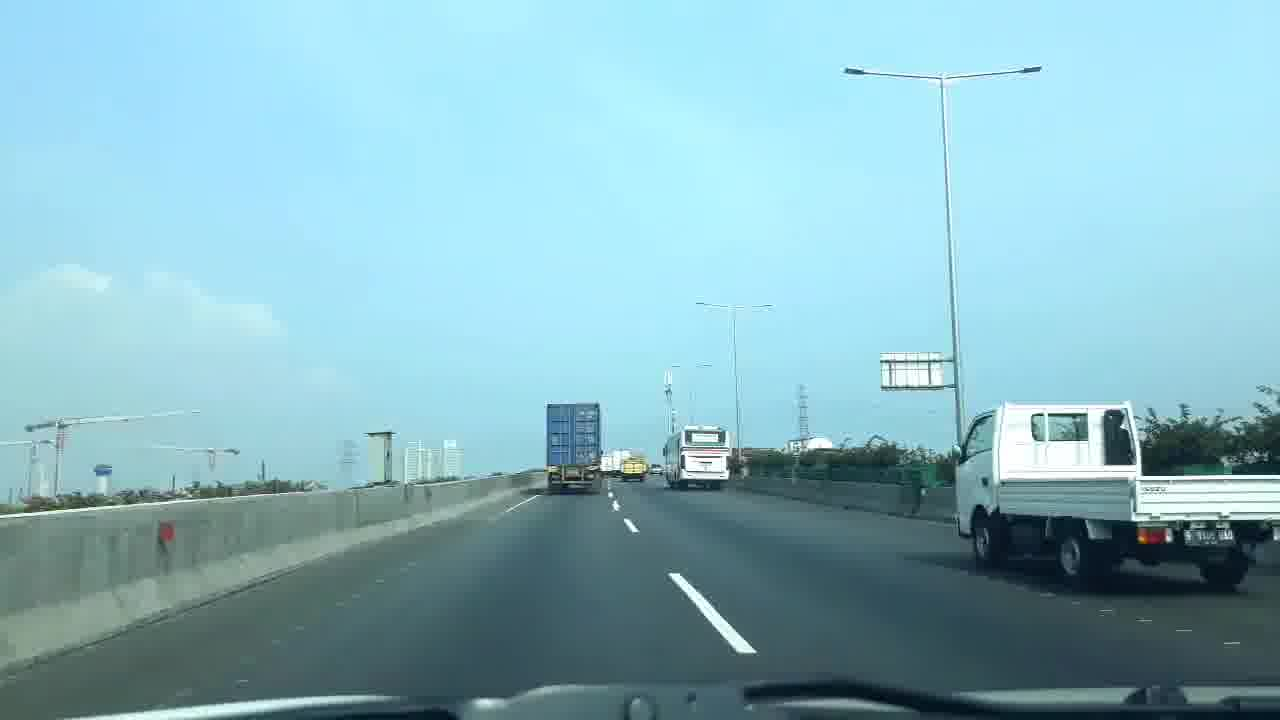plate_positive: (1183, 530, 1233, 546)
